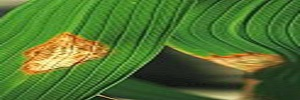RiceBlast: (14, 28, 115, 76), (197, 48, 288, 74)
